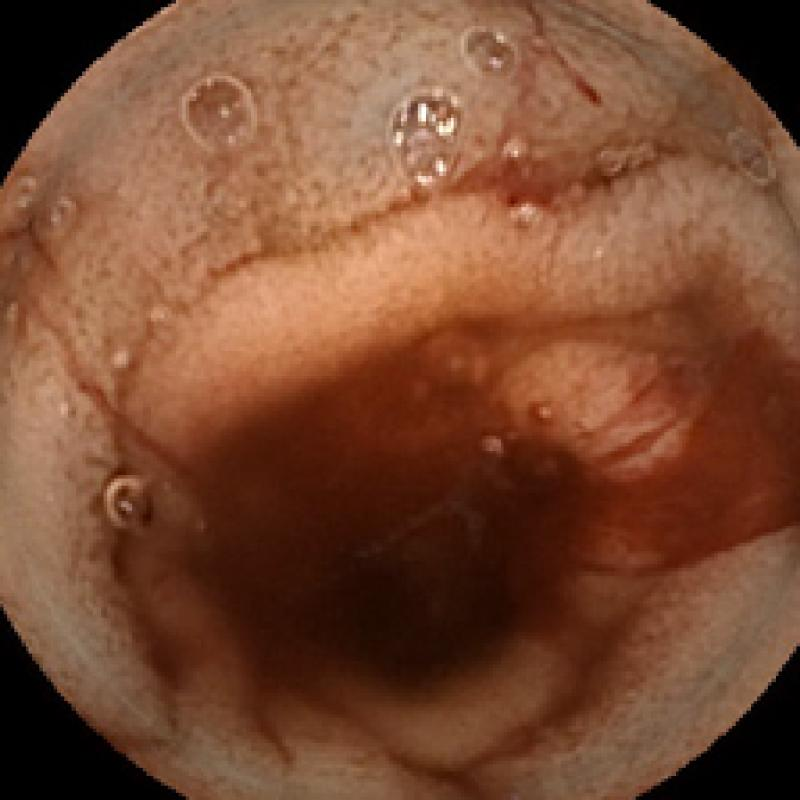bleeding: (280, 331, 800, 639), (510, 0, 607, 121)
